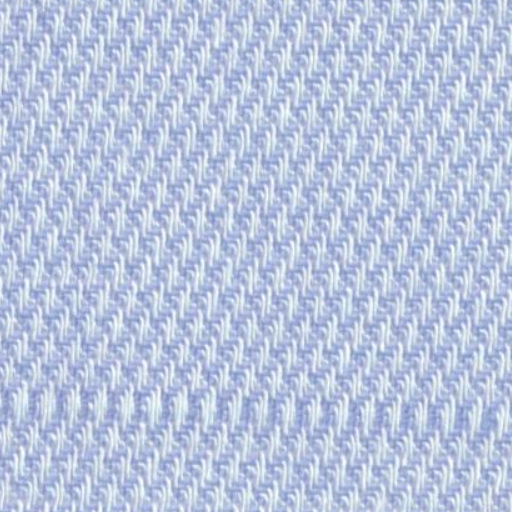TuoSha: (9, 344, 502, 464)
